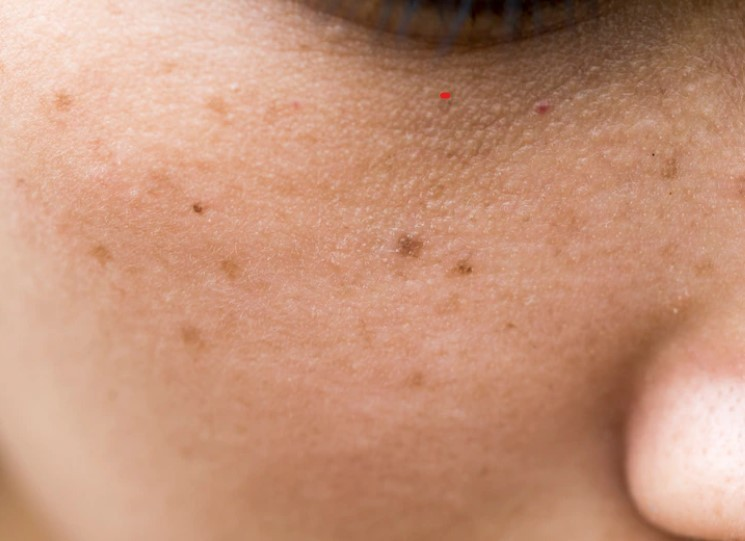Flek Hitam: (24, 63, 596, 419)
